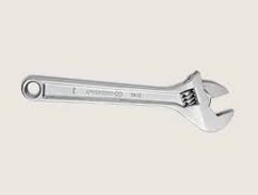Wrench: (18, 62, 251, 133)
